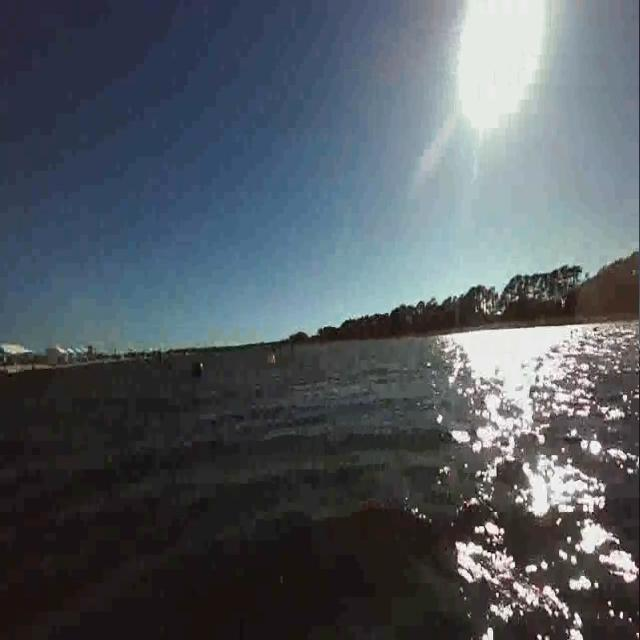black-buoy: (189, 353, 205, 382)
